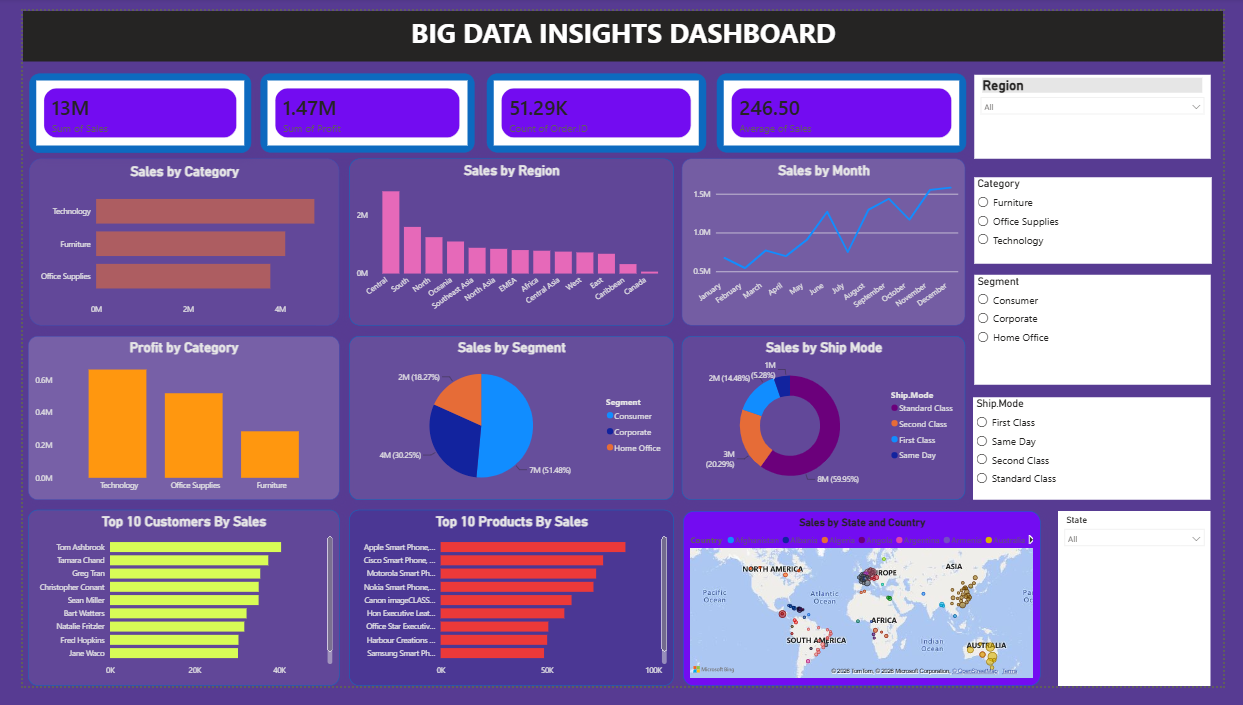

This screenshot's page, from the dashboard's own definition file:
{"tool":"powerbi","page":{"name":"Page 1","canvas":[1920,1080],"ordinal":0},"visuals":[{"type":"textbox","box":[0,0,1920.7,80.4],"z":0},{"type":"cardVisual","fields":{"Data":["Sum(Cleaned_Superstore.Profit)"]},"box":[380.4,100.9,342.6,126.1],"z":1000},{"type":"cardVisual","fields":{"Data":["CountNonNull(Cleaned_Superstore.Order.ID)"]},"box":[741.9,100.9,351,126.1],"z":2000},{"type":"cardVisual","fields":{"Data":["Avg(Cleaned_Superstore.Sales)"]},"box":[1109.6,100.9,399.3,126.1],"z":3000},{"type":"barChart","title":"Sales by Category","fields":{"Category":["Cleaned_Superstore.Category"],"Y":["Sum(Cleaned_Superstore.Sales)"]},"box":[10.5,235.4,496,266.9],"z":4000},{"type":"columnChart","title":"Sales by Region","fields":{"Y":["Sum(Cleaned_Superstore.Sales)"],"Category":["Cleaned_Superstore.Region"]},"box":[521.2,235.4,519.1,266.9],"z":5000},{"type":"lineChart","title":"Sales by Month","fields":{"Category":["Cleaned_Superstore.Order.Date.Variation.Date Hierarchy.Month"],"Y":["Sum(Cleaned_Superstore.Sales)"]},"box":[1055,235.4,453.9,266.9],"z":6000},{"type":"columnChart","title":"Profit by Category","fields":{"Y":["Sum(Cleaned_Superstore.Profit)"],"Category":["Cleaned_Superstore.Category"]},"box":[8.4,519.1,498.1,262.7],"z":7000},{"type":"pieChart","title":"Sales by Segment","fields":{"Category":["Cleaned_Superstore.Segment"],"Y":["Sum(Cleaned_Superstore.Sales)"]},"box":[521.2,519.1,519.1,262.7],"z":8000},{"type":"donutChart","title":"Sales by Ship Mode","fields":{"Category":["Cleaned_Superstore.Ship.Mode"],"Y":["Sum(Cleaned_Superstore.Sales)"]},"box":[1055,519.1,453.9,262.7],"z":9000},{"type":"barChart","title":"Top 10 Customers By Sales","fields":{"Category":["Cleaned_Superstore.Customer.Name"],"Y":["Sum(Cleaned_Superstore.Sales)"]},"box":[8.4,798.6,498.1,281.6],"z":10000},{"type":"barChart","title":"Top 10 Products By Sales","fields":{"Category":["Cleaned_Superstore.Product.Name"],"Y":["Sum(Cleaned_Superstore.Sales)"]},"box":[521.2,798.6,519.1,281.6],"z":11000},{"type":"cardVisual","fields":{"Data":["Sum(Cleaned_Superstore.Sales)"]},"box":[10.7,100.1,355.6,126.9],"z":12000},{"type":"slicer","fields":{"Values":["Cleaned_Superstore.Region"]},"box":[1522,102,378,134],"z":13000},{"type":"listSlicer","fields":{"Values":["Cleaned_Superstore.Category"]},"box":[1522,266,380,138],"z":14000},{"type":"listSlicer","fields":{"Values":["Cleaned_Superstore.Segment"]},"box":[1522,422,378,176],"z":15000},{"type":"listSlicer","fields":{"Values":["Cleaned_Superstore.Ship.Mode"]},"box":[1520,618,380,164],"z":16000},{"type":"map","title":"Sales by State and Country","fields":{"Category":["Cleaned_Superstore.State"],"Series":["Cleaned_Superstore.Country"],"Size":["Sum(Cleaned_Superstore.Sales)"]},"box":[1056,800,572,280],"z":16001},{"type":"slicer","fields":{"Values":["Cleaned_Superstore.State"]},"box":[1656,800,244,280],"z":16002}]}

Visuals, with their boxes in screenshot pixels (x1, y1, x2, y2), scaled from the page's 1920x1080 canvas onto the 1243x705 screenshot:
textbox: left=0, top=0, right=1242, bottom=52
cardVisual - Sum(Cleaned_Superstore.Profit): left=246, top=66, right=468, bottom=148
cardVisual - CountNonNull(Cleaned_Superstore.Order.ID): left=480, top=66, right=708, bottom=148
cardVisual - Avg(Cleaned_Superstore.Sales): left=718, top=66, right=977, bottom=148
"Sales by Category" barChart: left=7, top=154, right=328, bottom=328
"Sales by Region" columnChart: left=337, top=154, right=673, bottom=328
"Sales by Month" lineChart: left=683, top=154, right=977, bottom=328
"Profit by Category" columnChart: left=5, top=339, right=328, bottom=510
"Sales by Segment" pieChart: left=337, top=339, right=673, bottom=510
"Sales by Ship Mode" donutChart: left=683, top=339, right=977, bottom=510
"Top 10 Customers By Sales" barChart: left=5, top=521, right=328, bottom=704
"Top 10 Products By Sales" barChart: left=337, top=521, right=673, bottom=704
cardVisual - Sum(Cleaned_Superstore.Sales): left=7, top=65, right=237, bottom=148
slicer - Cleaned_Superstore.Region: left=985, top=67, right=1230, bottom=154
listSlicer - Cleaned_Superstore.Category: left=985, top=174, right=1231, bottom=264
listSlicer - Cleaned_Superstore.Segment: left=985, top=275, right=1230, bottom=390
listSlicer - Cleaned_Superstore.Ship.Mode: left=984, top=403, right=1230, bottom=510
"Sales by State and Country" map: left=684, top=522, right=1054, bottom=704
slicer - Cleaned_Superstore.State: left=1072, top=522, right=1230, bottom=704
